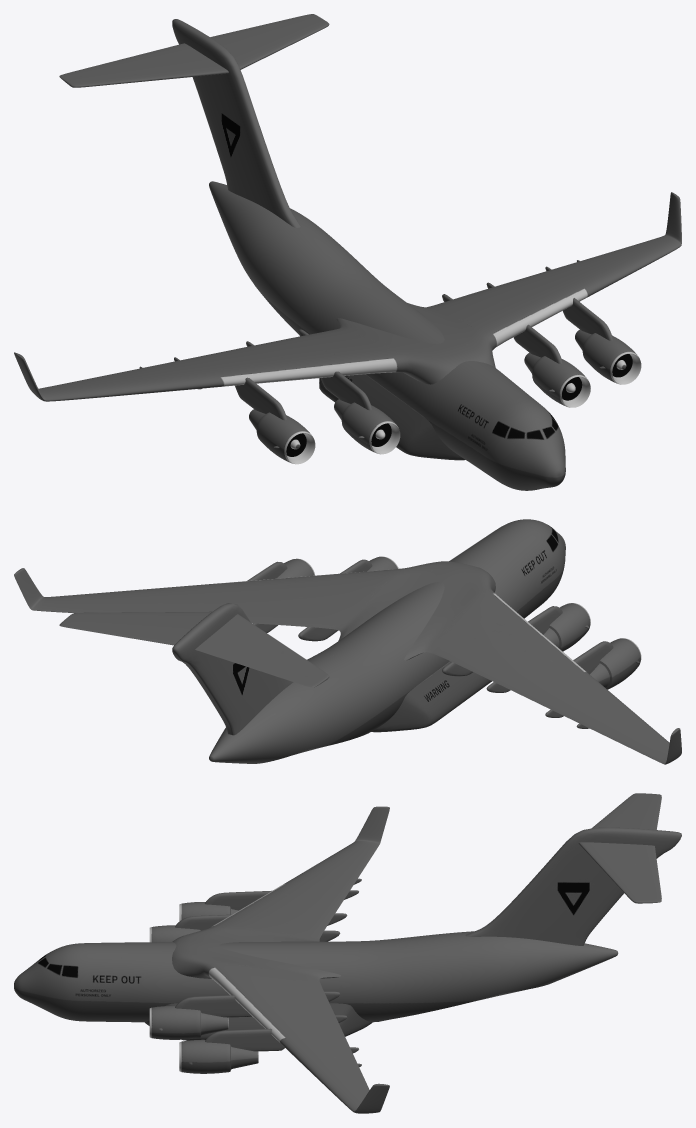
3 renders of one model, top to bottom at view 1: azimuth 30°, elevation 25°; view 2: azimuth 150°, elevation 25°; view 3: azimuth 270°, elevation 25°, orthographic. The views are drawn at different scales.
Visible parts, largest first — view 1: PlaneC17; view 2: PlaneC17; view 3: PlaneC17.
Boxes of the visible parts, bbox=[...] form: PlaneC17: bbox=[14, 14, 681, 490]; PlaneC17: bbox=[14, 519, 681, 764]; PlaneC17: bbox=[14, 793, 681, 1113].
Size of the model in its own units: 60.18 by 19.28 by 60.95.
Materials: 1 (1 with a texture image).
